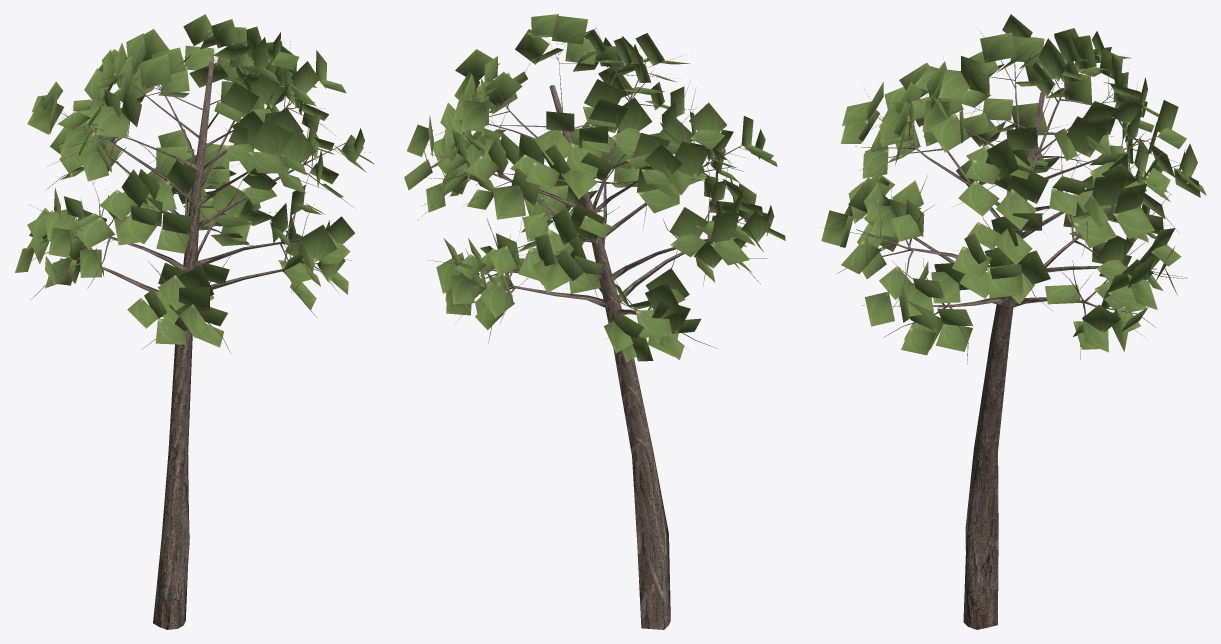
The model's file is Tree1.fbx.
3 renders of one model, left to right at view 1: azimuth 30°, elevation 25°; view 2: azimuth 150°, elevation 25°; view 3: azimuth 270°, elevation 25°, orthographic. The views are drawn at different scales.
Parts seen in each view (by area): view 1: Tree_1, Tree_0; view 2: Tree_1, Tree_0; view 3: Tree_1, Tree_0.
Part boxes in pixels (<box>): Tree_1: <box>15,14,374,347</box>; Tree_0: <box>18,40,369,629</box>; Tree_1: <box>404,14,785,362</box>; Tree_0: <box>417,28,779,629</box>; Tree_1: <box>821,14,1206,355</box>; Tree_0: <box>822,26,1193,629</box>.
Bounding box in the file's own units: 71.49 × 122 × 70.62.
Materials: 2 (2 with a texture image).
